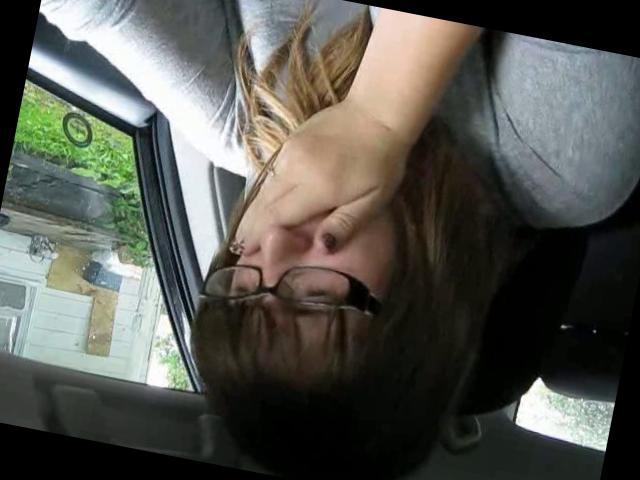eye_closed: (289, 274, 338, 316), (220, 270, 268, 302)
face: (203, 82, 424, 380)
